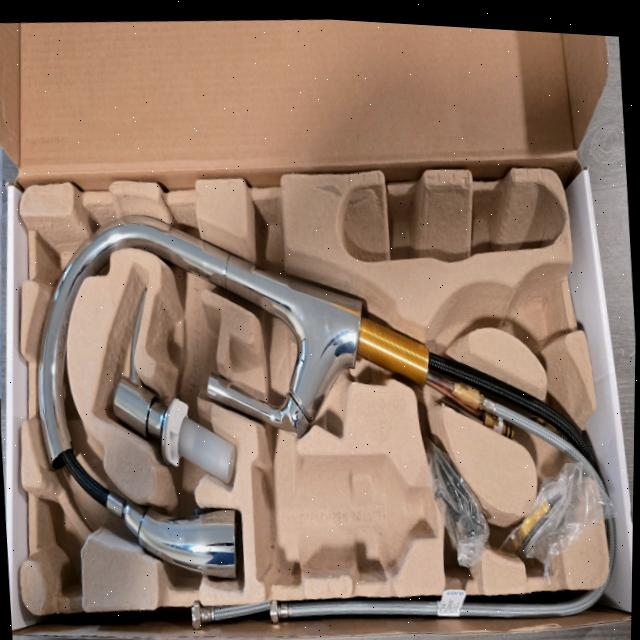1: (37, 213, 598, 576)
2: (110, 284, 235, 487)
3m: (250, 456, 437, 582)
4m: (336, 182, 566, 262)
5m: (506, 276, 563, 351)
6: (506, 451, 619, 574)
7: (428, 434, 490, 565)
